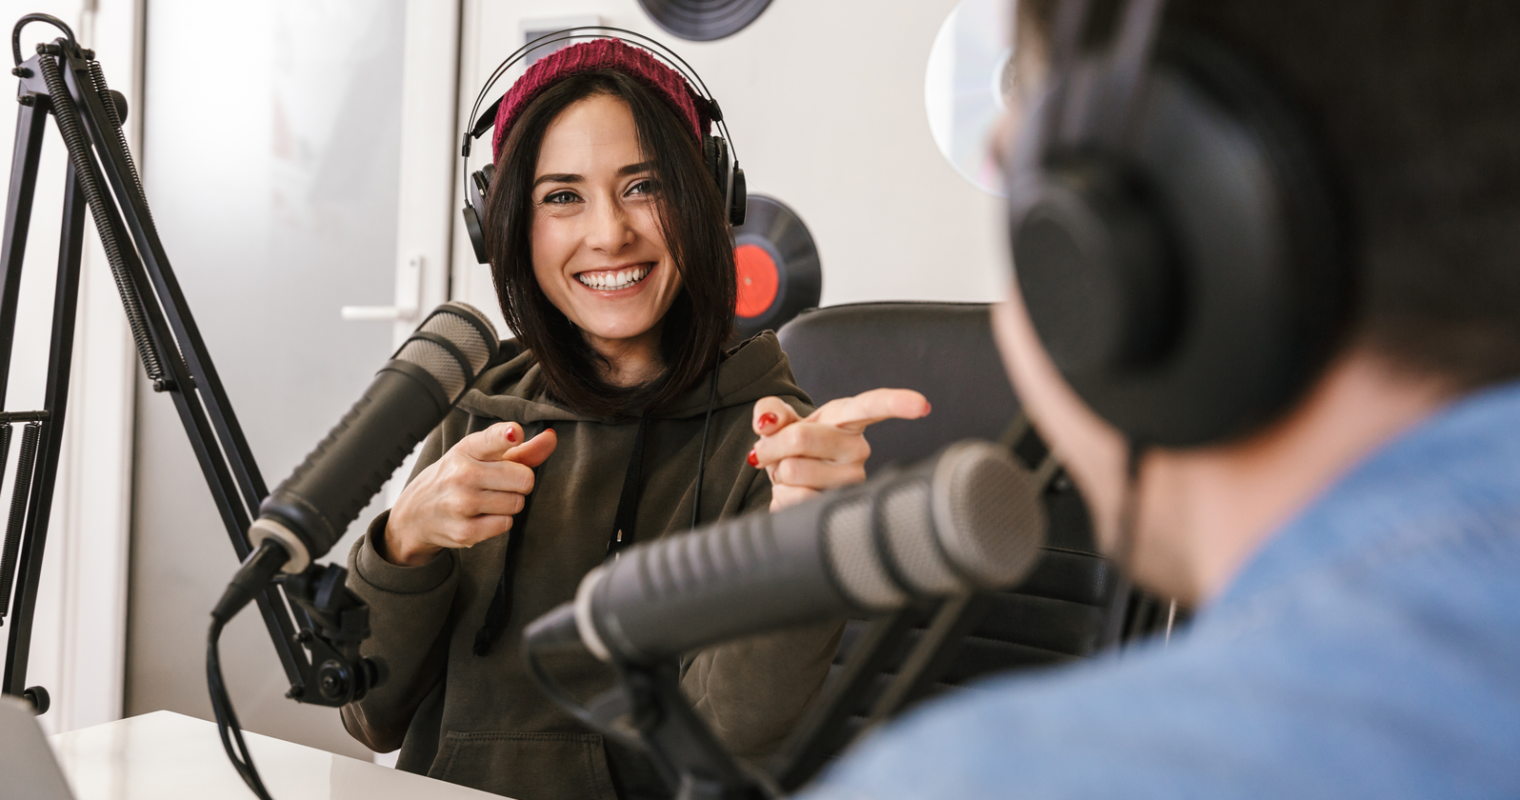microphone: (517, 434, 1057, 701), (209, 295, 501, 624)
